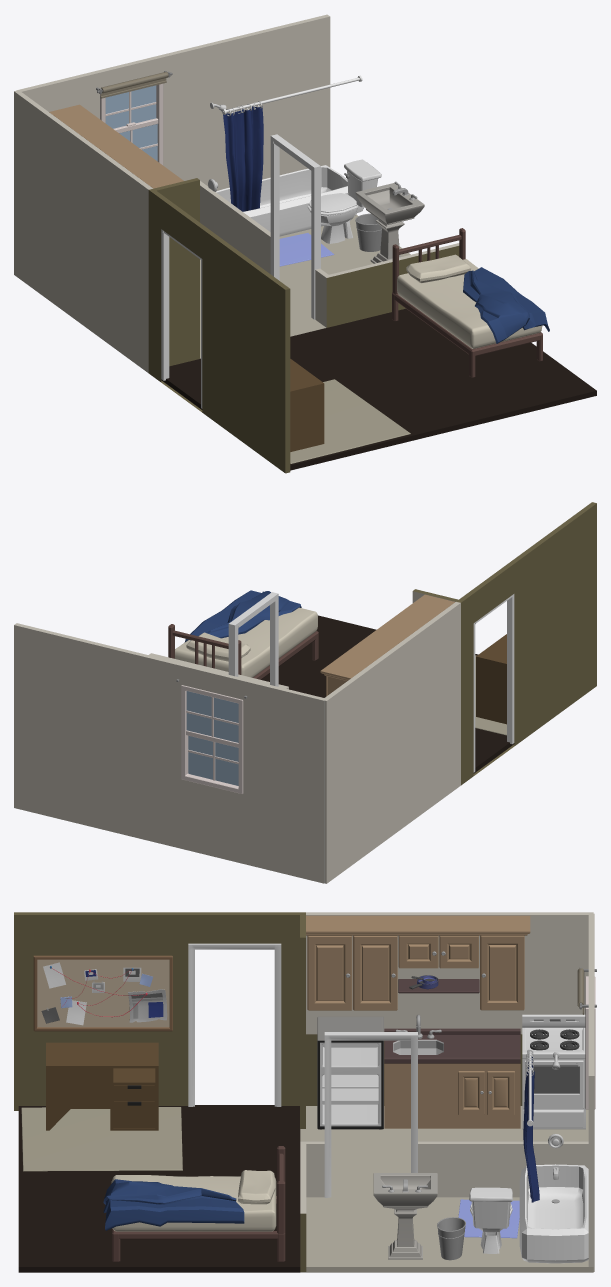
File: Hub_NonInteractables.fbx
The picture shows the model from 3 angles, top to bottom: view 1: azimuth 30°, elevation 25°; view 2: azimuth 150°, elevation 25°; view 3: azimuth 270°, elevation 25°; orthographic projection. The views are drawn at different scales.
Visible parts, largest first — view 1: unchangeable1; view 2: unchangeable1; view 3: unchangeable1.
Boxes of the visible parts, x1,y1,x2,y2 form: unchangeable1: (14,14,596,473); unchangeable1: (14,502,596,883); unchangeable1: (14,912,596,1272).
Bounding box in the file's own units: 14.42 × 7.97 × 21.41.
